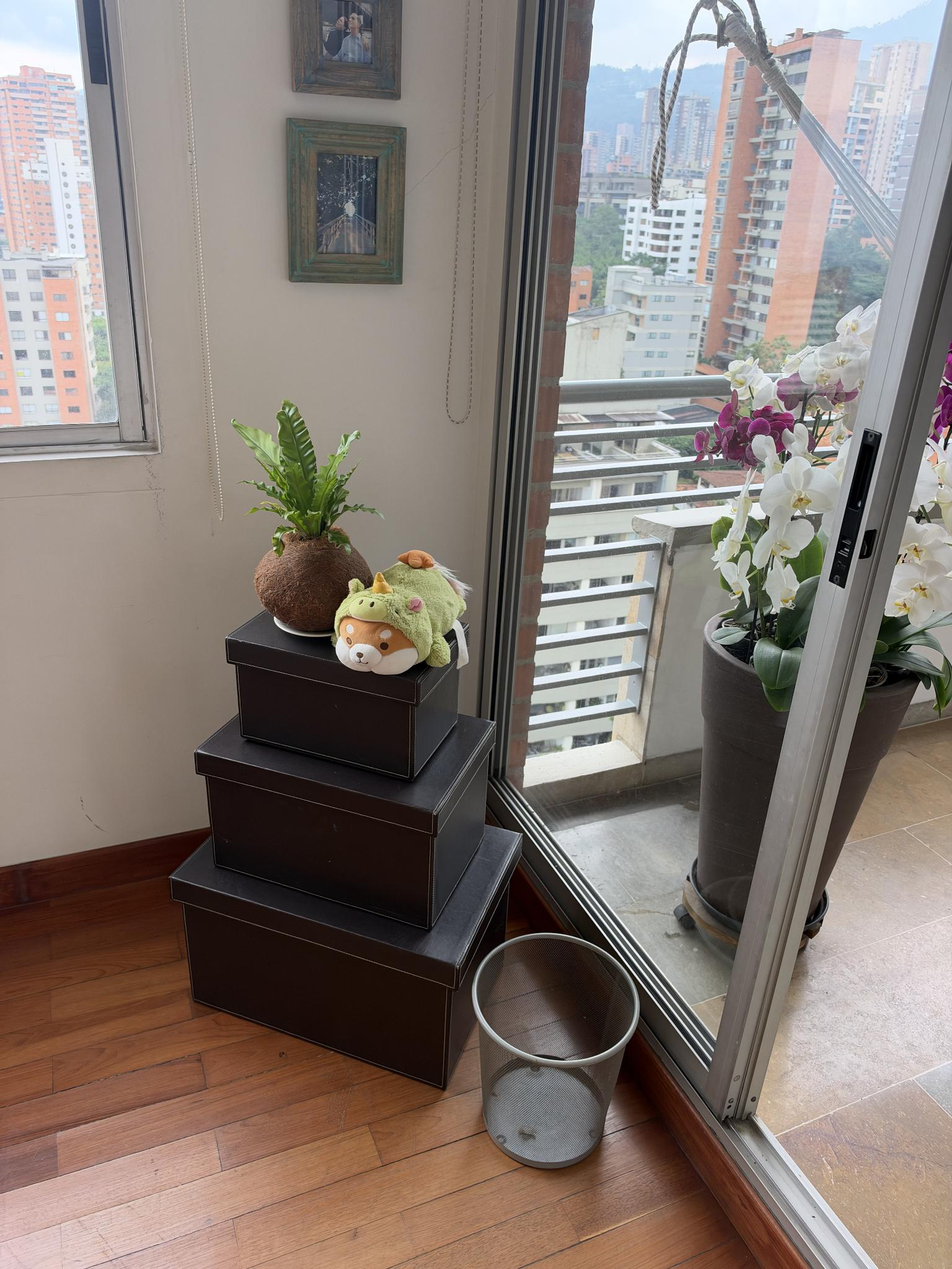peluche_martin: (330, 549, 473, 675)
